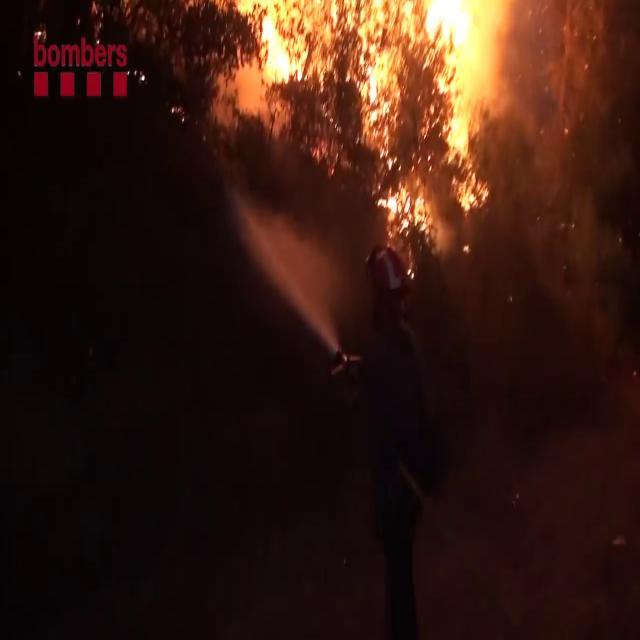Fire: (244, 0, 532, 232)
